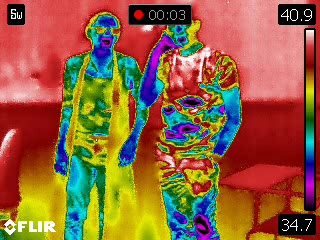human: (137, 9, 245, 240), (57, 10, 151, 240)
